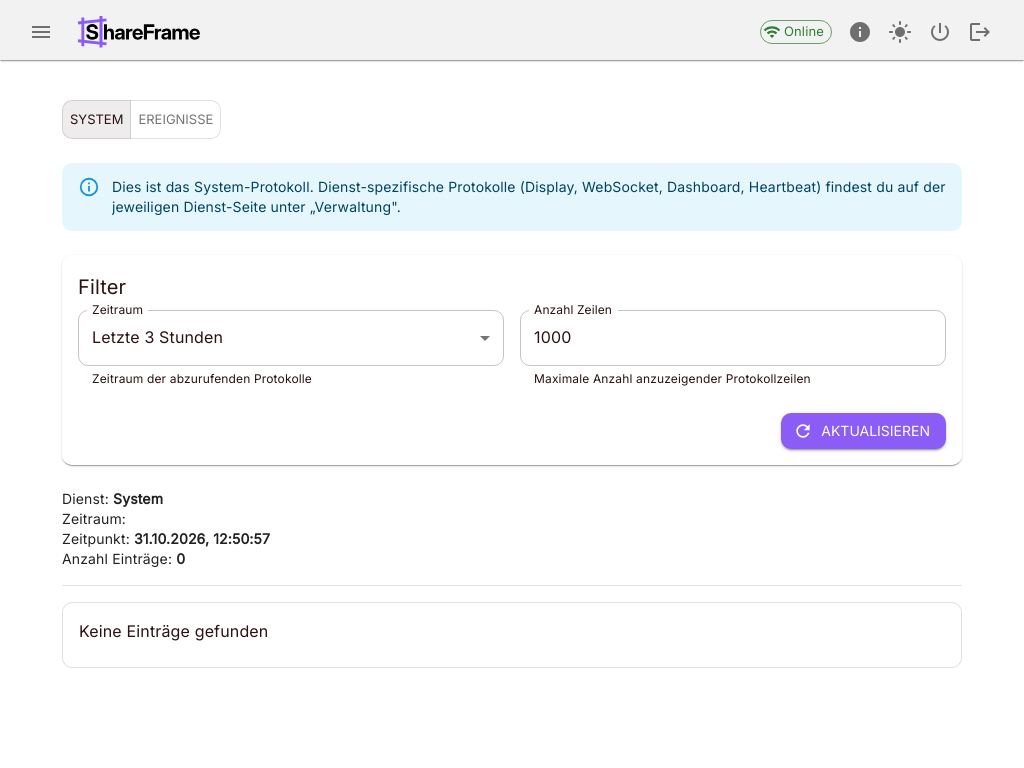
it: system logs › asks for a start date when the custom range is picked
Step 1. Click the dropdown named "Zeitraum" → coordinates (158, 337), box [92,327,223,347]
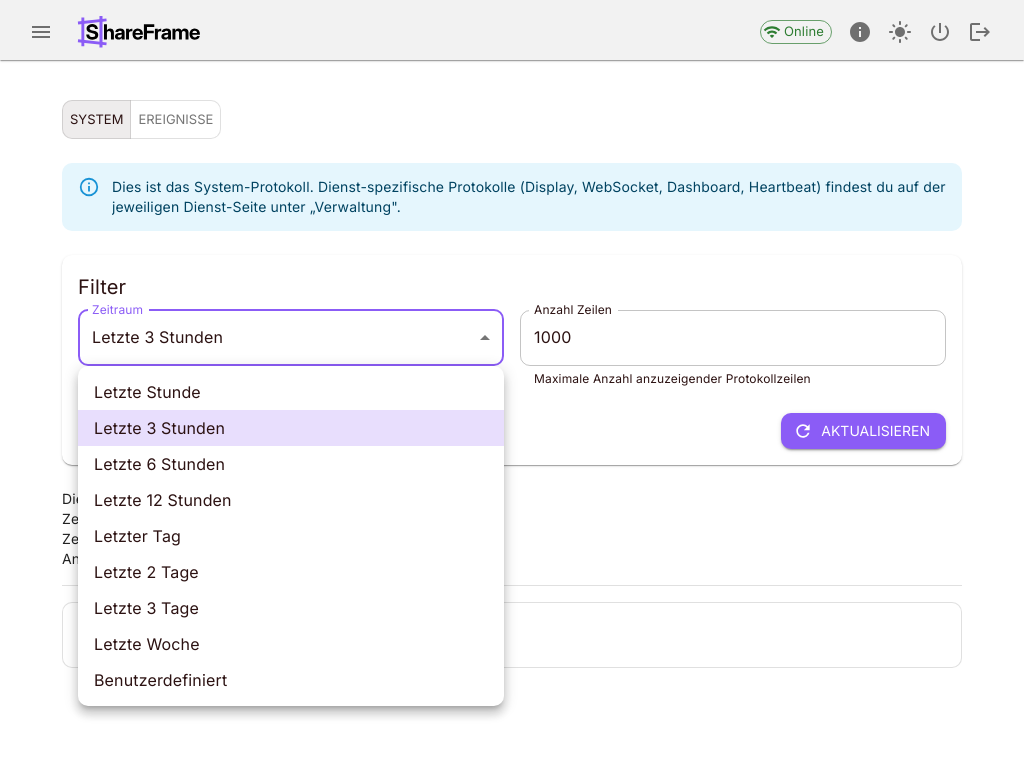
Step 2. Click the option "Benutzerdefiniert" → coordinates (161, 680), box [94,670,227,690]
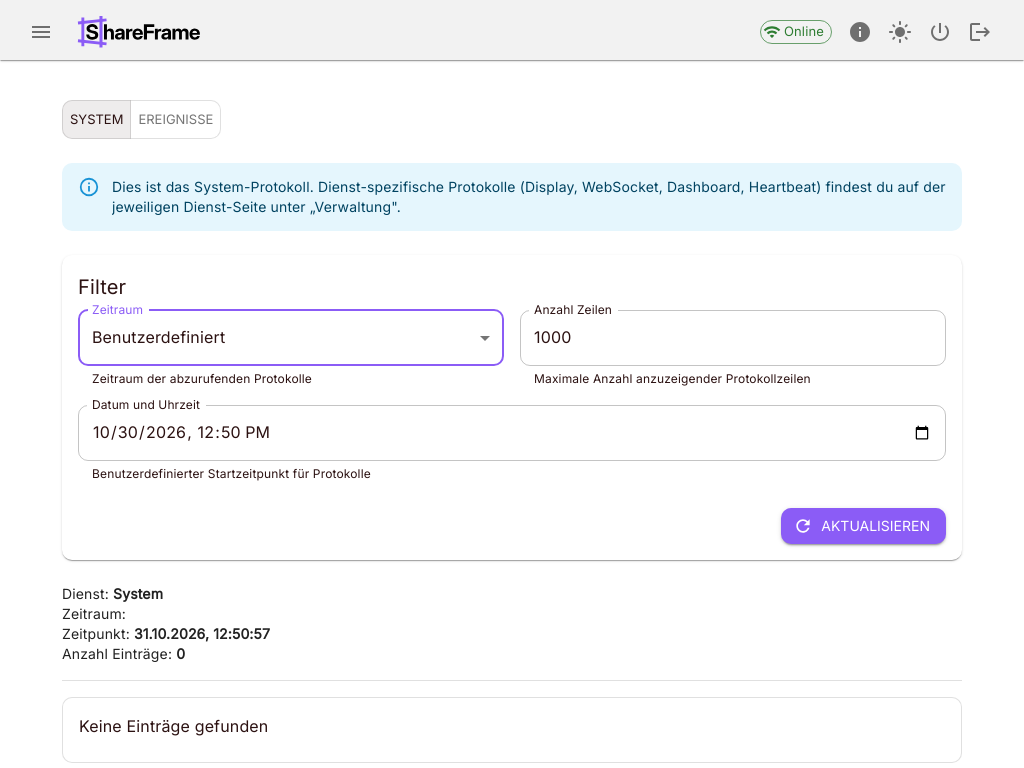
Result: the field labelled "Datum und Uhrzeit" is shown at [78,405,946,461]
